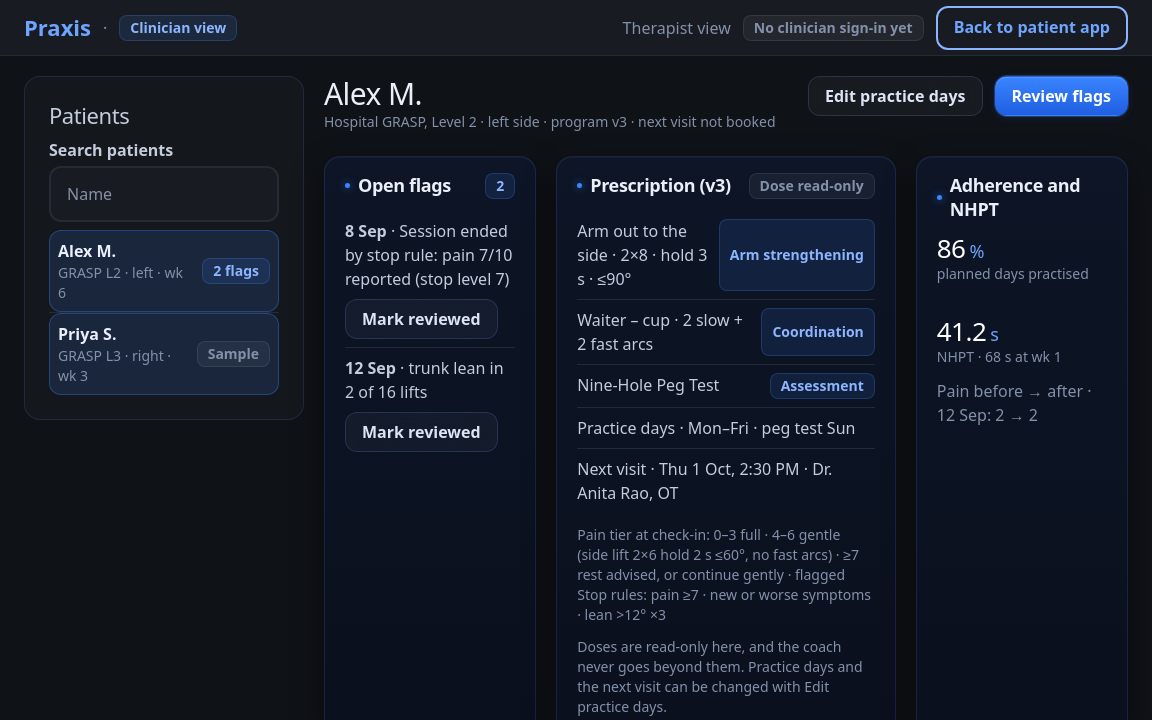
saving sends the new schedule and shows the new version
This screenshot has width=1152, height=720.
expect the heading "Alex M." is shown: met, box [324,73,422,114]
expect the element named "Prescription" shows "Practice days · Mon–Fri · peg test Sun": met, box [577,211,875,717]
Click the button "Edit practice days". click: (895,96)
box: [808,76,982,116]
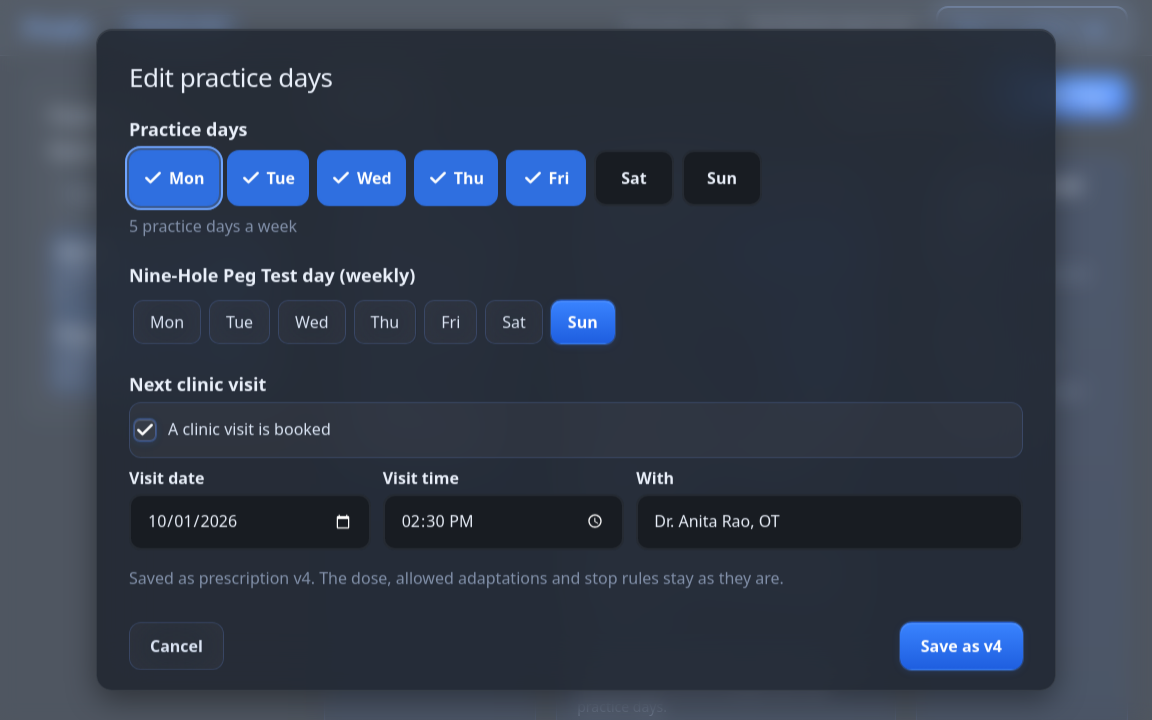
Click the button "Tue". click: (268,178)
box: [226,150,309,206]
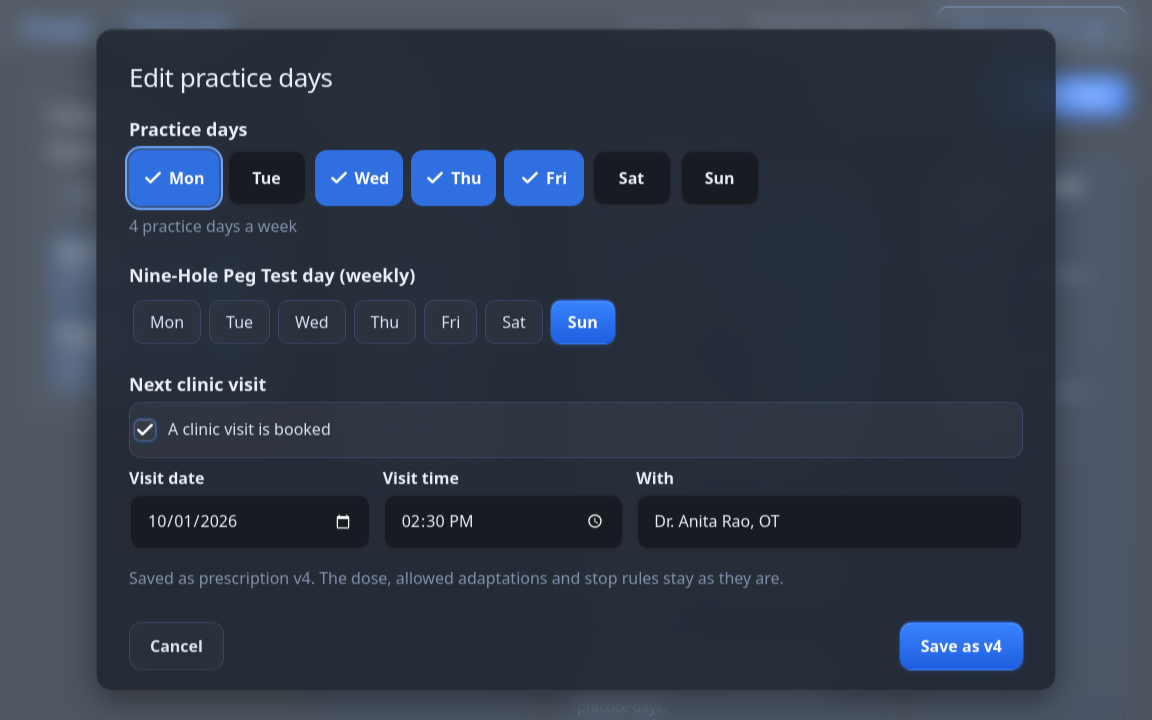
Click the button "Thu". click: (453,178)
box: [411,150,496,206]
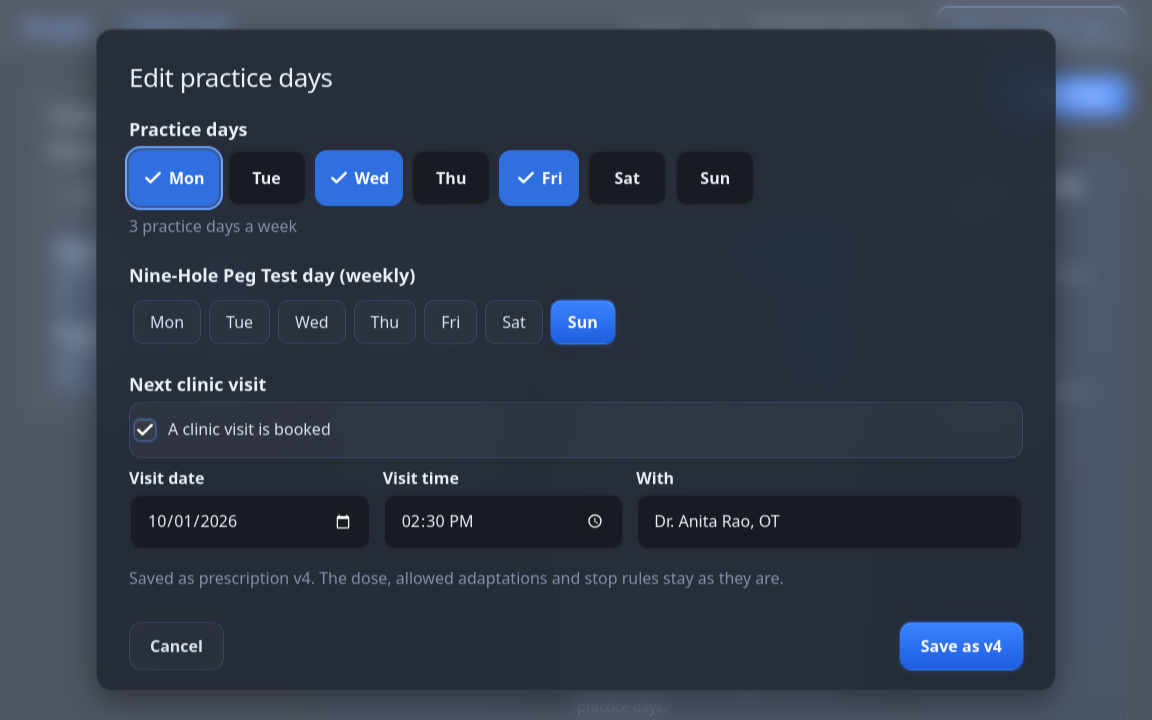
Click the radio button labelled "Sat". click: (514,322)
box: [485,300,543,344]
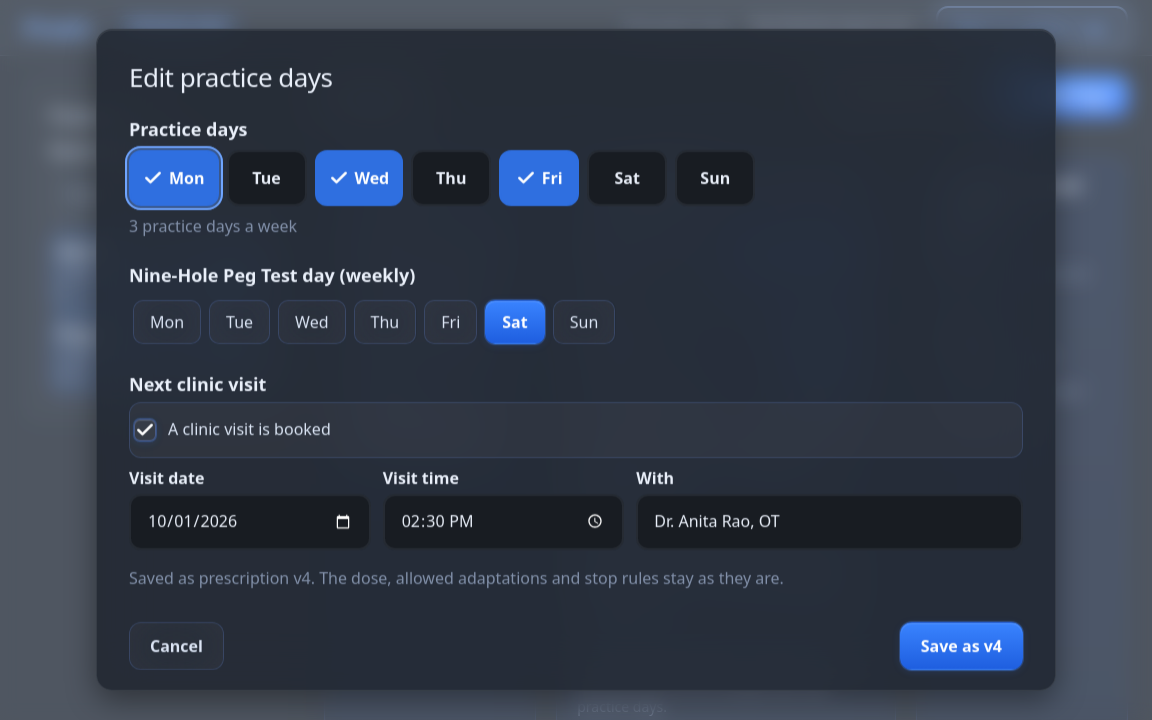
Type "2026-10-09" into the date field labelled "Visit date". click: (250,521)
box: [129,493,371,549]
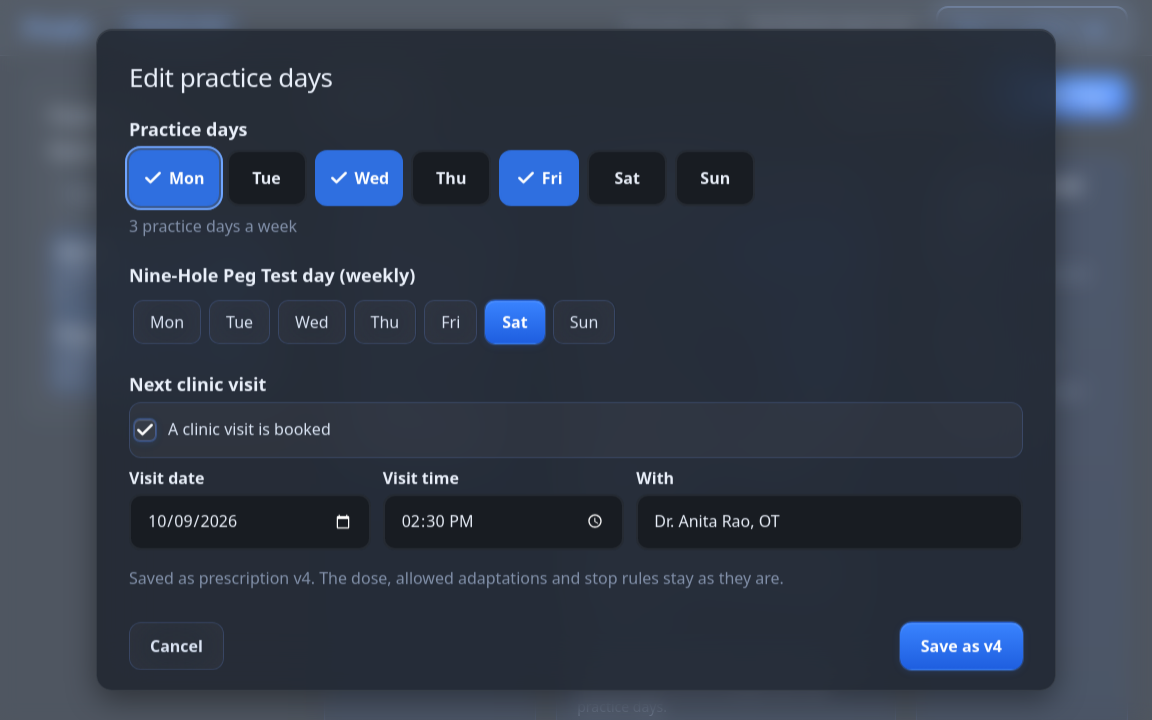
Click the button "Save as v4". click: (961,645)
box: [900,621,1023,669]
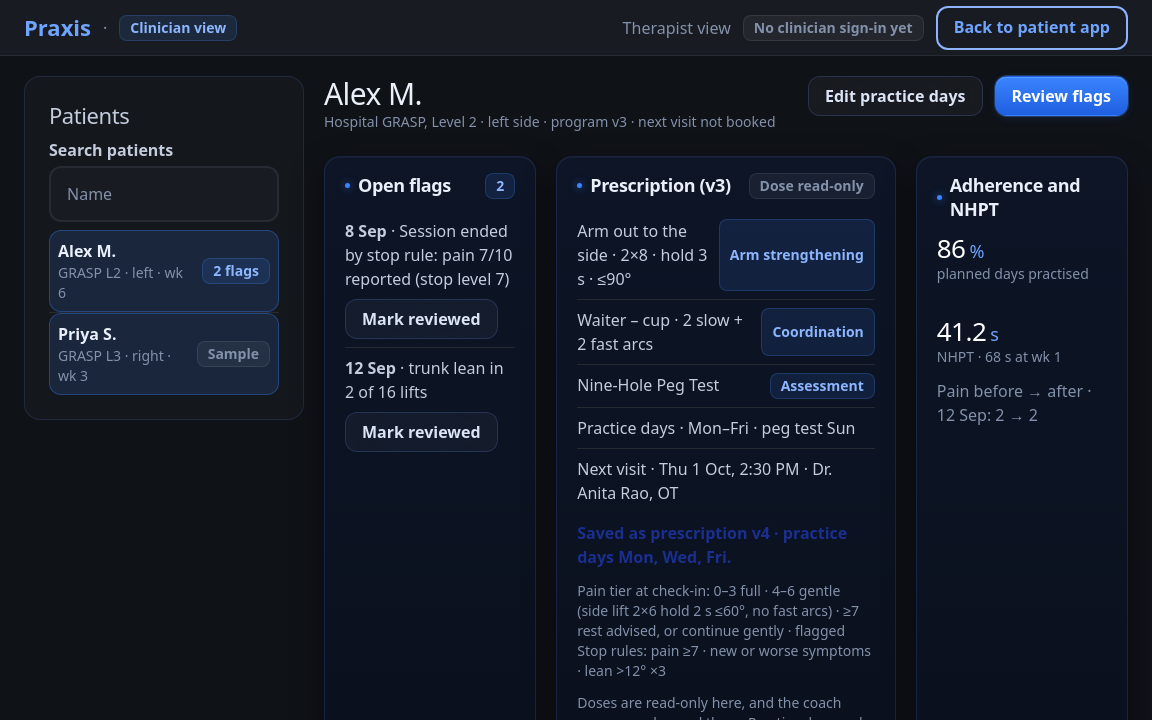
expect the text "Saved as prescription v4 · practice days Mon, Wed, Fri." is shown: met, box [577,521,875,569]
expect the dialog is gone: met
